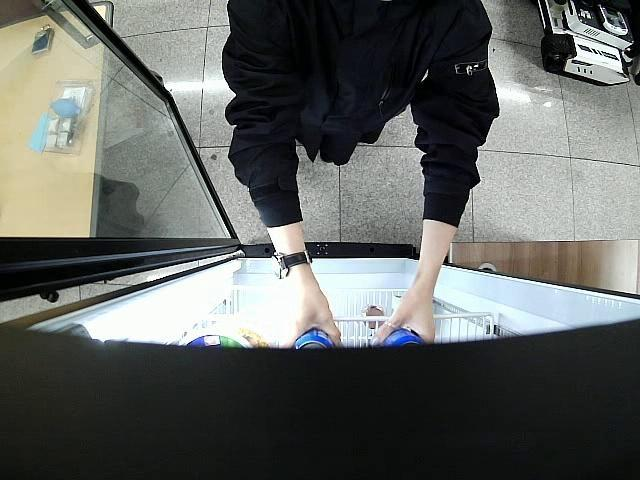13_pocariSweat: (379, 326, 426, 351), (290, 327, 334, 352)
